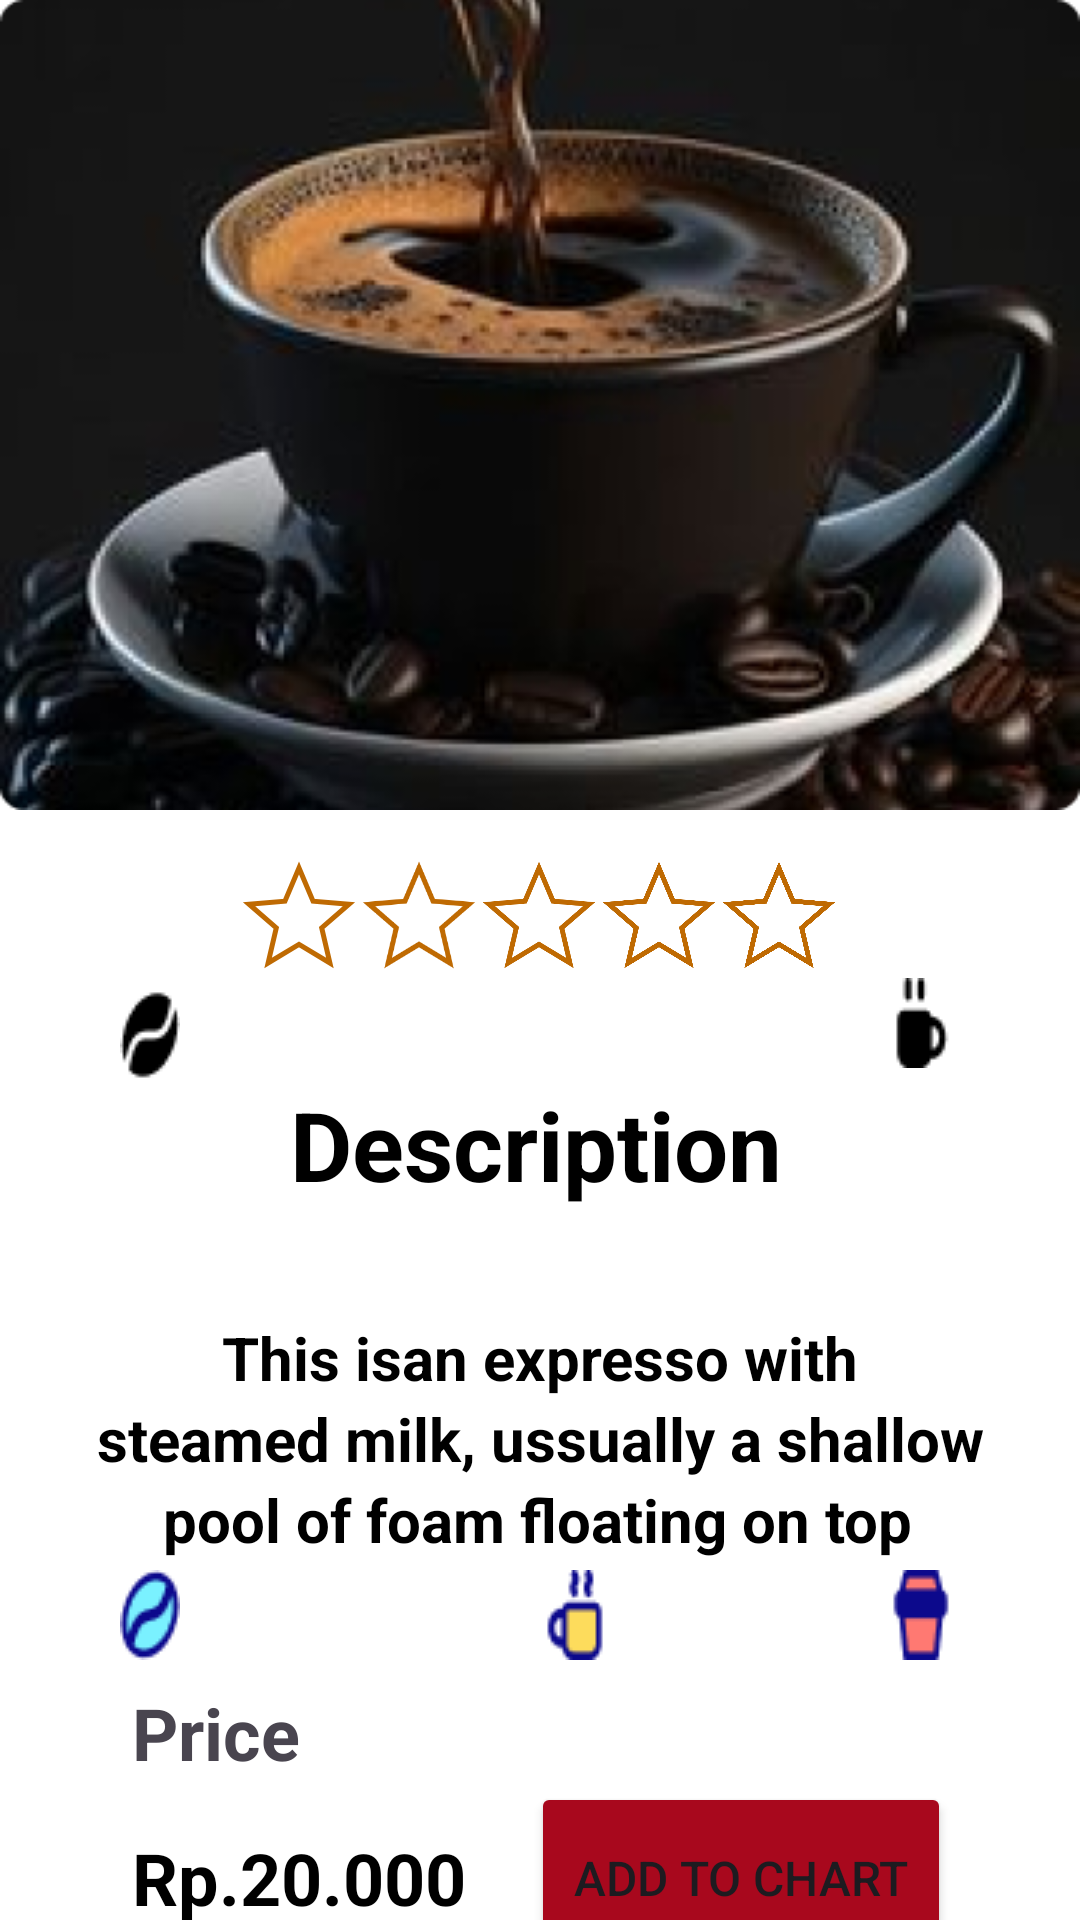

Icon click points for this 1080×1920 phone screenshot, format point (x, y):
cofe: point (150, 1035), point (150, 1615)
Star 1: point (299, 915)
Star 2: point (419, 915)
Star 3: point (539, 915)
Star 4: point (659, 915)
Star 5: point (779, 915)
